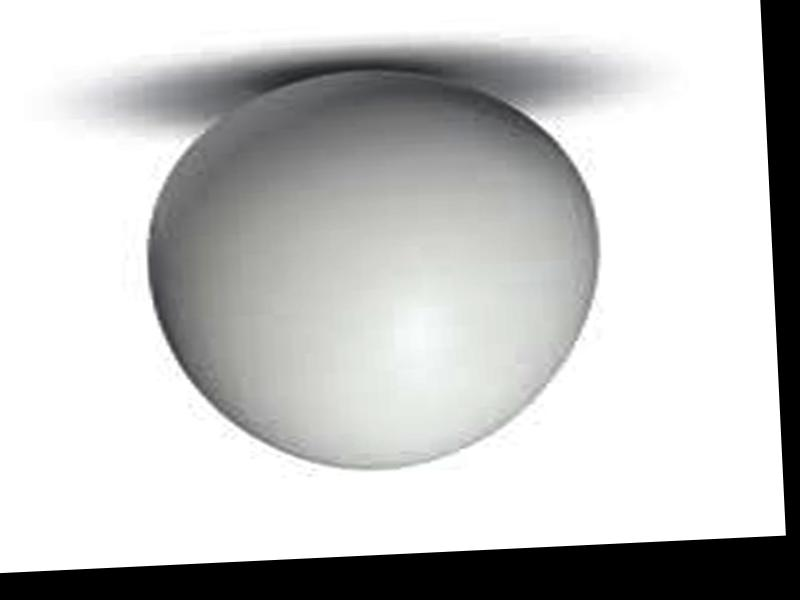Eggs: (147, 61, 606, 482)
